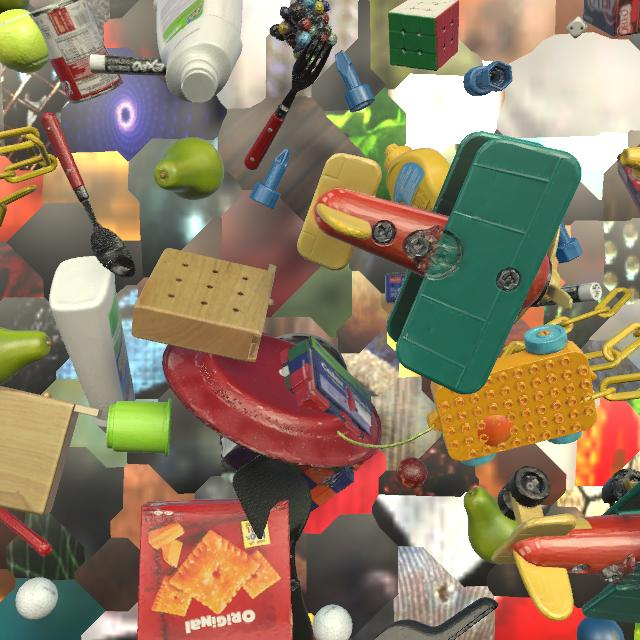ycb_003_cracker_box: (137, 498, 293, 640)
ycb_005_tomato_soup_can: (29, 0, 124, 104)
ycb_006_mustard_bottle: (384, 144, 450, 212), (620, 144, 640, 179)
ycb_007_tuna_fish_can: (385, 272, 407, 304)
ycb_008_pudding_box: (583, 0, 640, 38), (617, 154, 640, 213)
ycb_016_pear: (154, 137, 224, 200), (463, 487, 517, 564), (0, 327, 52, 385), (0, 0, 30, 14)
ycb_017_orange: (477, 415, 514, 447)
